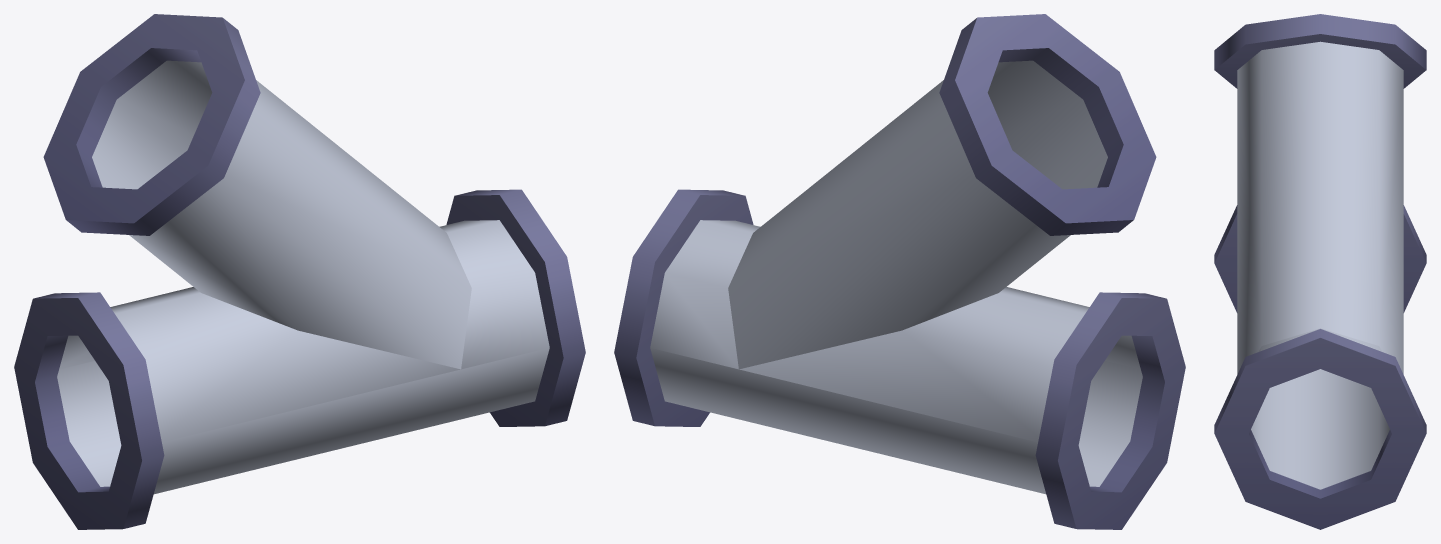
Rendered from kenney-factory-pipe-glass-large-junction.glb.
The picture shows the model from 3 angles, left to right: view 1: azimuth 30°, elevation 25°; view 2: azimuth 150°, elevation 25°; view 3: azimuth 270°, elevation 25°; orthographic projection. The views are drawn at different scales.
Parts seen in each view (by area): view 1: pipe-glass-large-junction; view 2: pipe-glass-large-junction; view 3: pipe-glass-large-junction.
Part boxes in pixels (x1,y1,x2,y2): pipe-glass-large-junction: [14, 14, 585, 529]; pipe-glass-large-junction: [614, 14, 1185, 529]; pipe-glass-large-junction: [1214, 14, 1426, 529].
Size of the model in its own units: 2.06 by 2.06 by 1.
2 materials, 1 textured.
